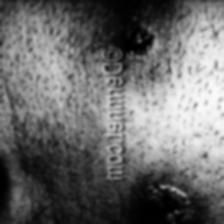Toxin: (145, 188, 185, 222), (122, 28, 152, 56)
